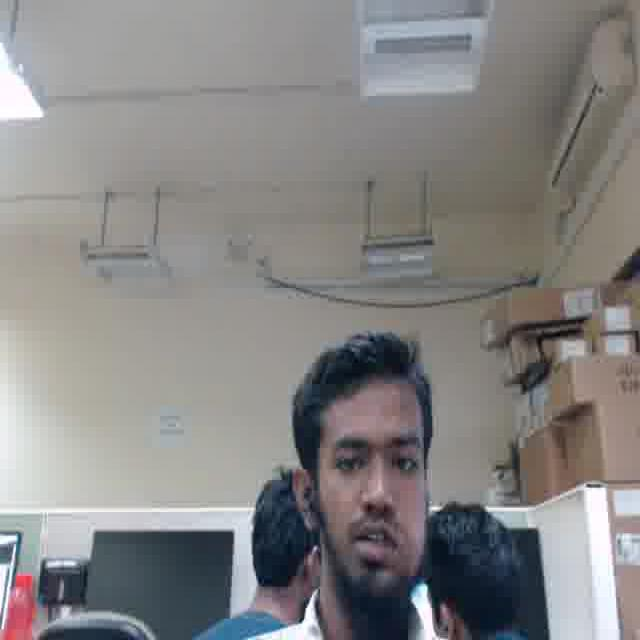Engaged: (316, 387, 429, 589)
